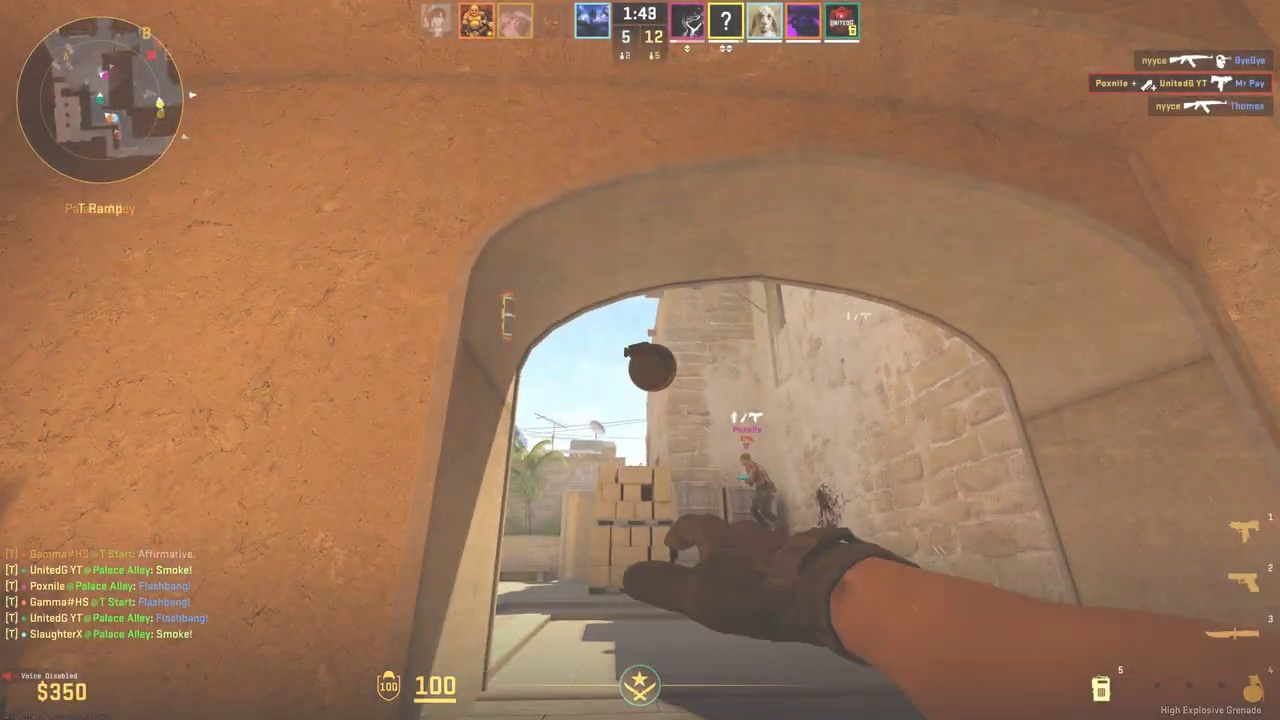Terrorist: (740, 452, 778, 527)
